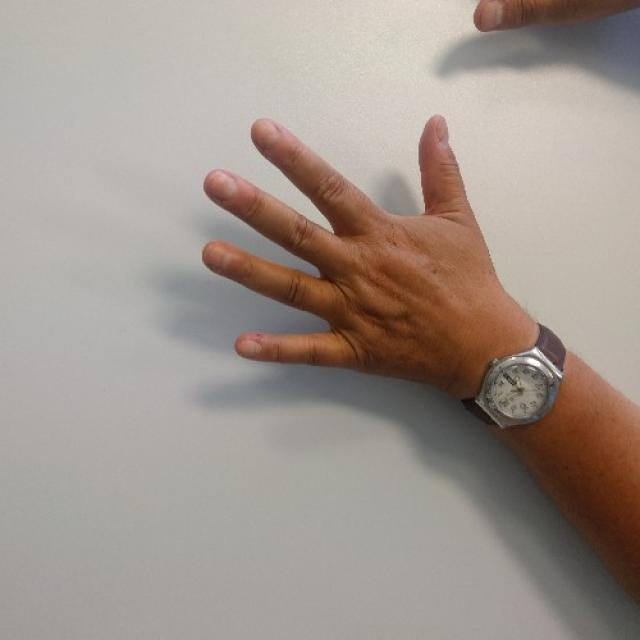paper: (203, 112, 482, 374)
